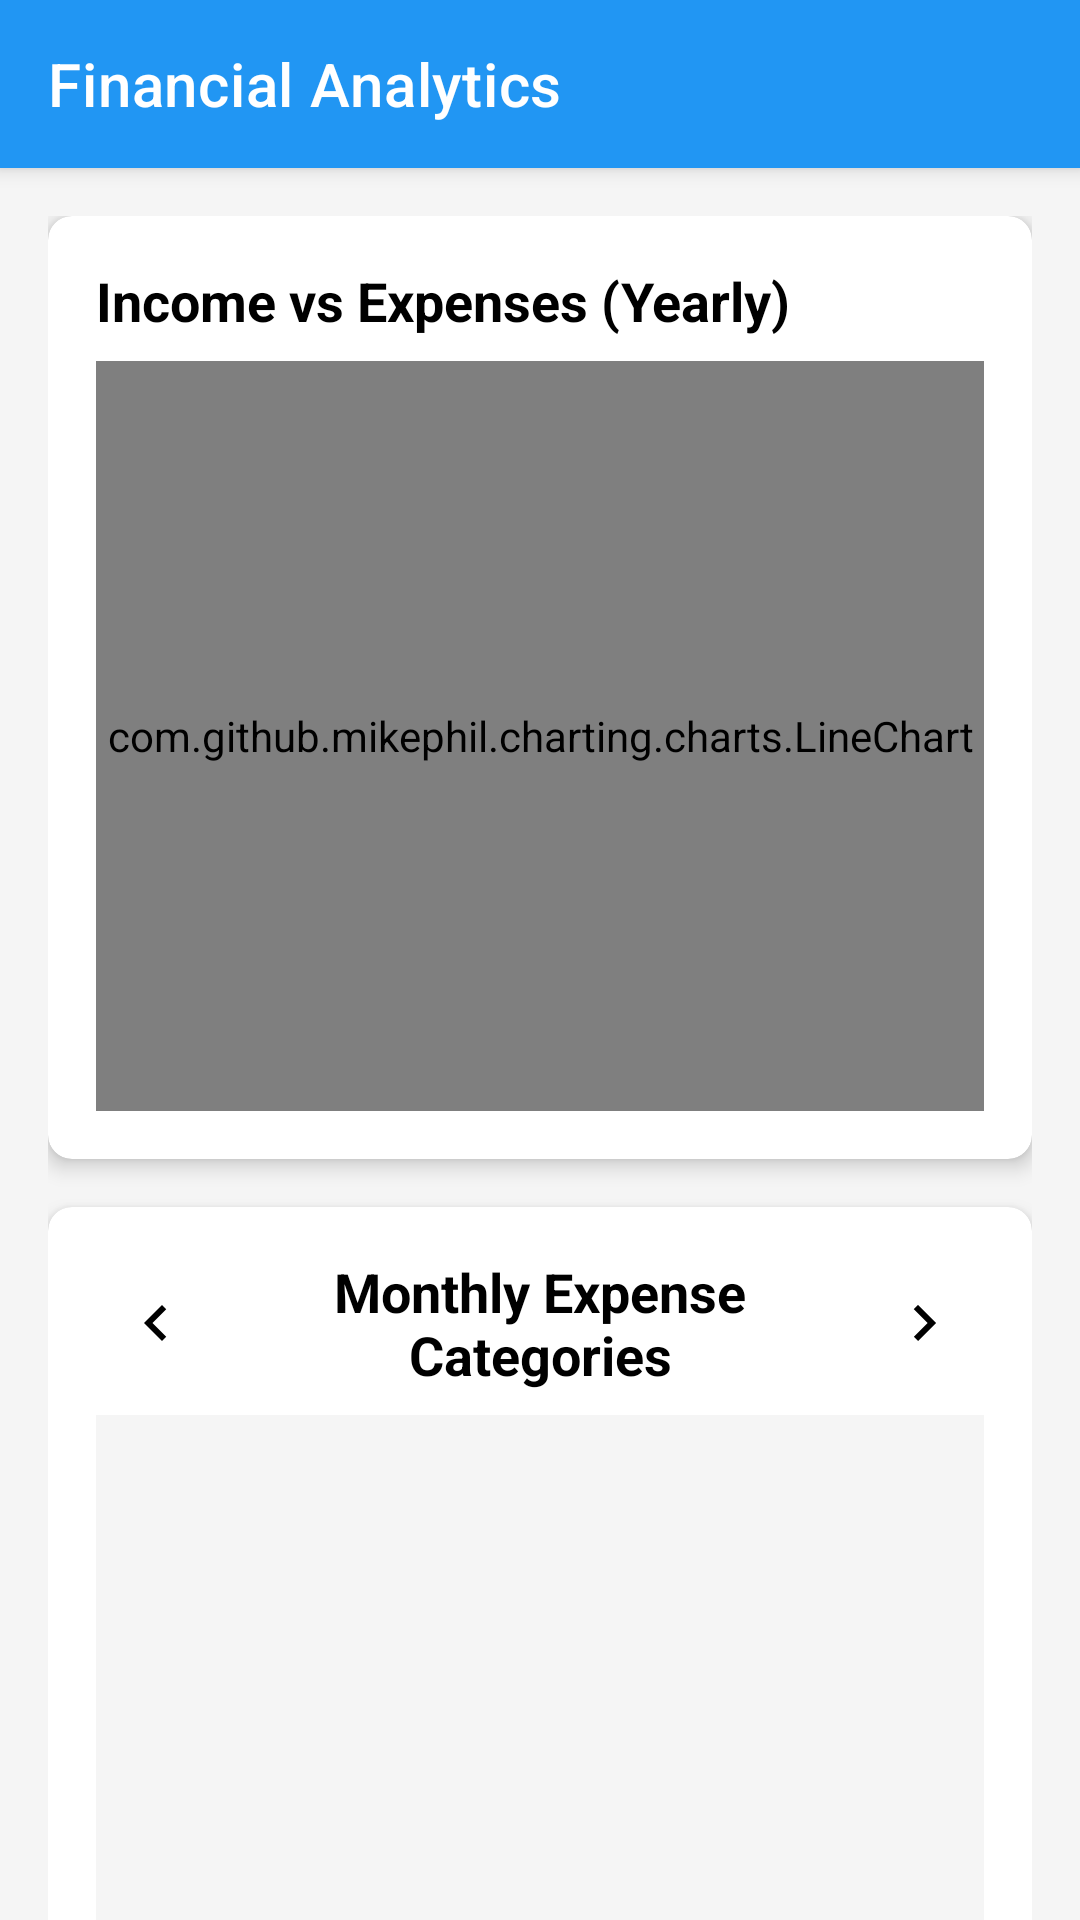

Screen size 1080px×1920px. Icon name, then its center in pixels as point (x, y):
arrow left: point (155, 1323)
arrow right: point (925, 1323)
